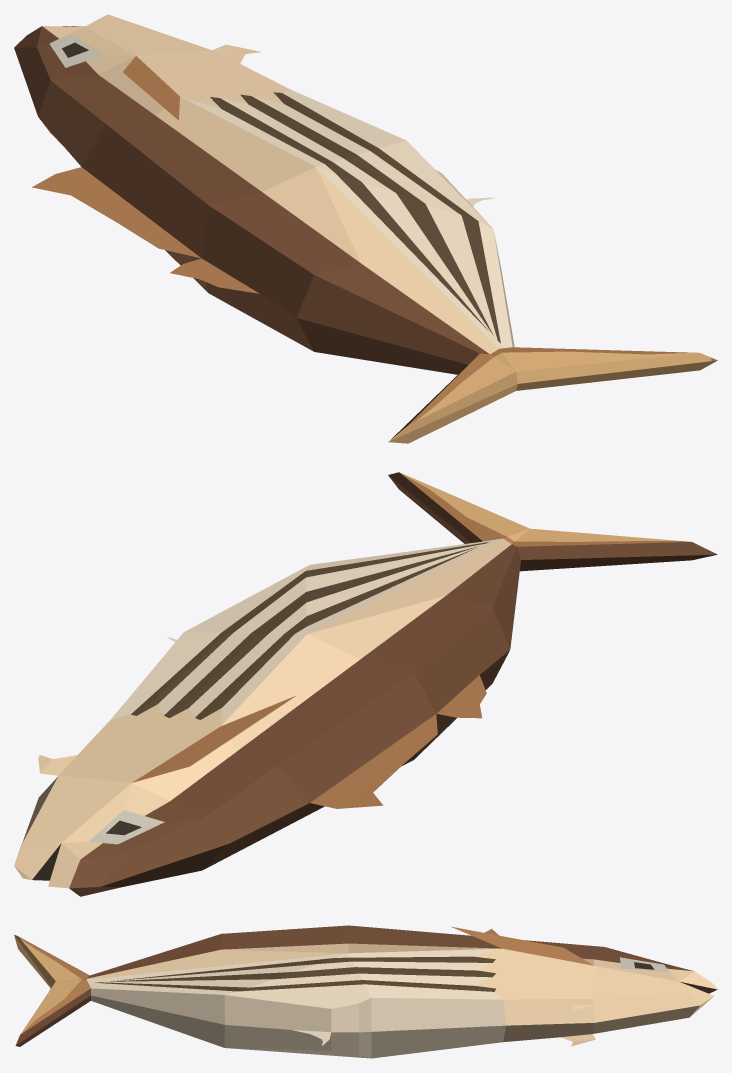
File: TunaCooked.glb
The picture shows the model from 3 angles, top to bottom: view 1: azimuth 30°, elevation 25°; view 2: azimuth 150°, elevation 25°; view 3: azimuth 270°, elevation 25°; orthographic projection. The views are drawn at different scales.
Parts seen in each view (by area): view 1: EXPORT_cooked_tuna; view 2: EXPORT_cooked_tuna; view 3: EXPORT_cooked_tuna.
Boxes of the visible parts, box(x1,y1,x2,y2) form: EXPORT_cooked_tuna: box(14, 14, 717, 443); EXPORT_cooked_tuna: box(14, 472, 717, 896); EXPORT_cooked_tuna: box(14, 925, 717, 1058).
Bounding box in the file's own units: 0.2526 × 0.0906 × 0.6547.
